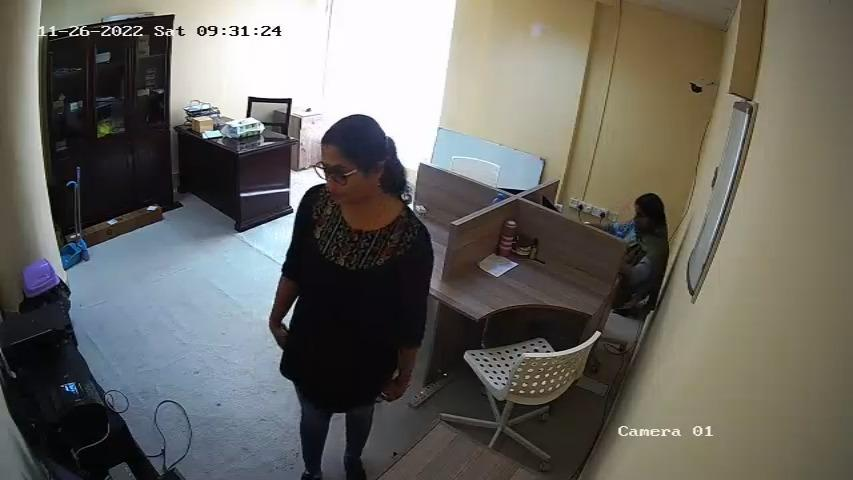no_apron: (306, 209, 399, 398)
